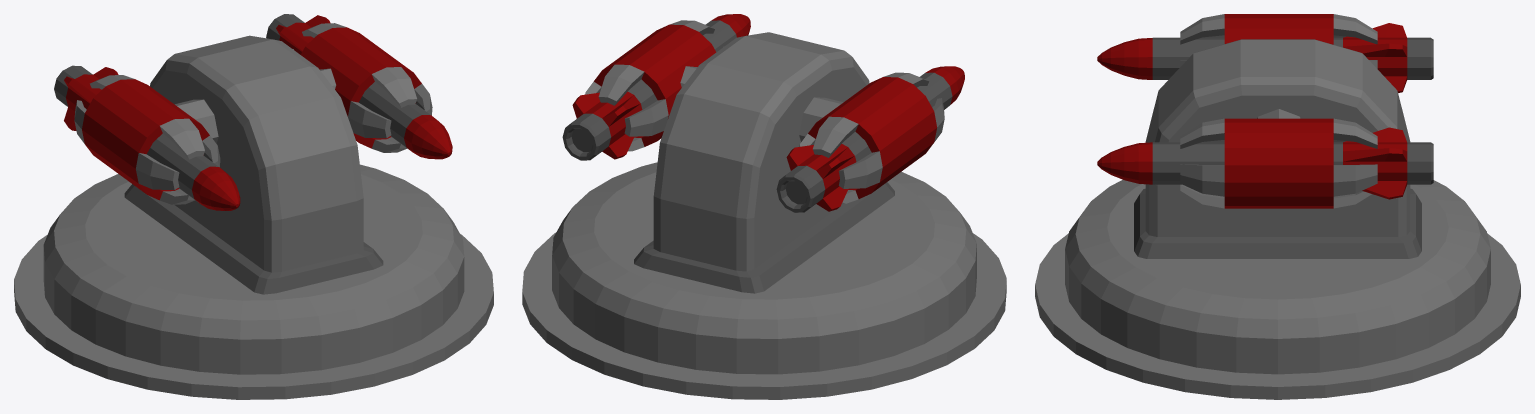
File: Missile Turret Small.fbx
The picture shows the model from 3 angles, left to right: view 1: azimuth 30°, elevation 25°; view 2: azimuth 150°, elevation 25°; view 3: azimuth 270°, elevation 25°; orthographic projection.
Visible parts, largest first — view 1: Missile Base Small, Missile Head Small, Missile Tubes Small; view 2: Missile Base Small, Missile Head Small, Missile Tubes Small; view 3: Missile Base Small, Missile Tubes Small, Missile Head Small.
Boxes of the visible parts, x1,y1,x2,y2 form: Missile Base Small: (14,164,493,399); Missile Head Small: (124,35,383,294); Missile Tubes Small: (54,14,452,210); Missile Base Small: (522,162,1006,399); Missile Head Small: (634,32,894,293); Missile Tubes Small: (562,14,964,212); Missile Base Small: (1035,180,1520,399); Missile Tubes Small: (1097,14,1433,208); Missile Head Small: (1134,39,1421,258).
Bounding box in the file's own units: 0.82 × 0.82 × 0.445.
